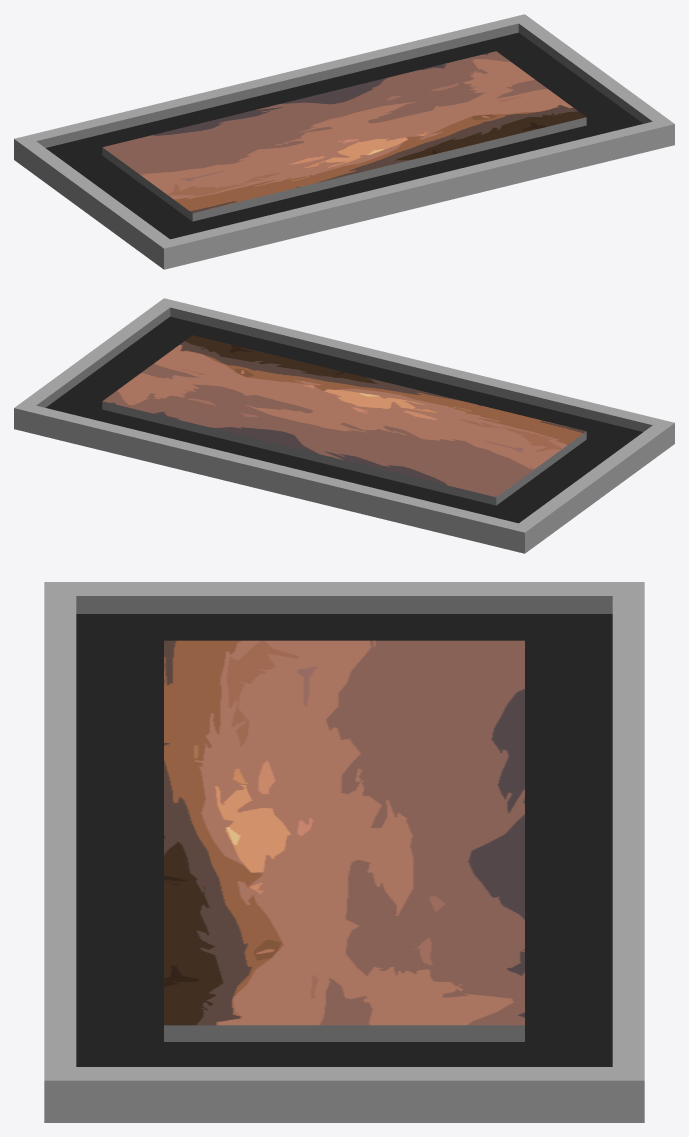
The model's file is Painting.glb.
3 renders of one model, top to bottom at view 1: azimuth 30°, elevation 25°; view 2: azimuth 150°, elevation 25°; view 3: azimuth 270°, elevation 25°, orthographic. The views are drawn at different scales.
Parts seen in each view (by area): view 1: Painting; view 2: Painting; view 3: Painting.
Part boxes in pixels (x1,y1,x2,y2): Painting: (14,14,674,269); Painting: (14,298,674,553); Painting: (44,582,644,1122).
Bounding box in the file's own units: 0.9307 × 0.0367 × 0.4737.
Materials: 2 (2 with a texture image).
